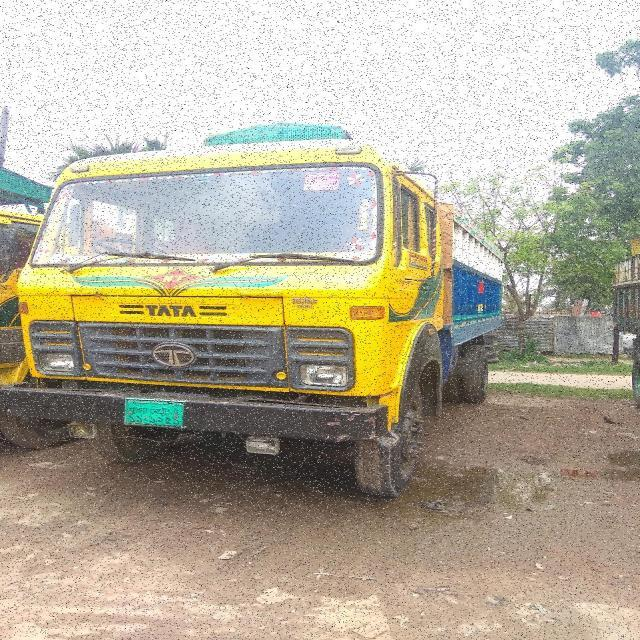numberplate: (122, 397, 184, 429)
